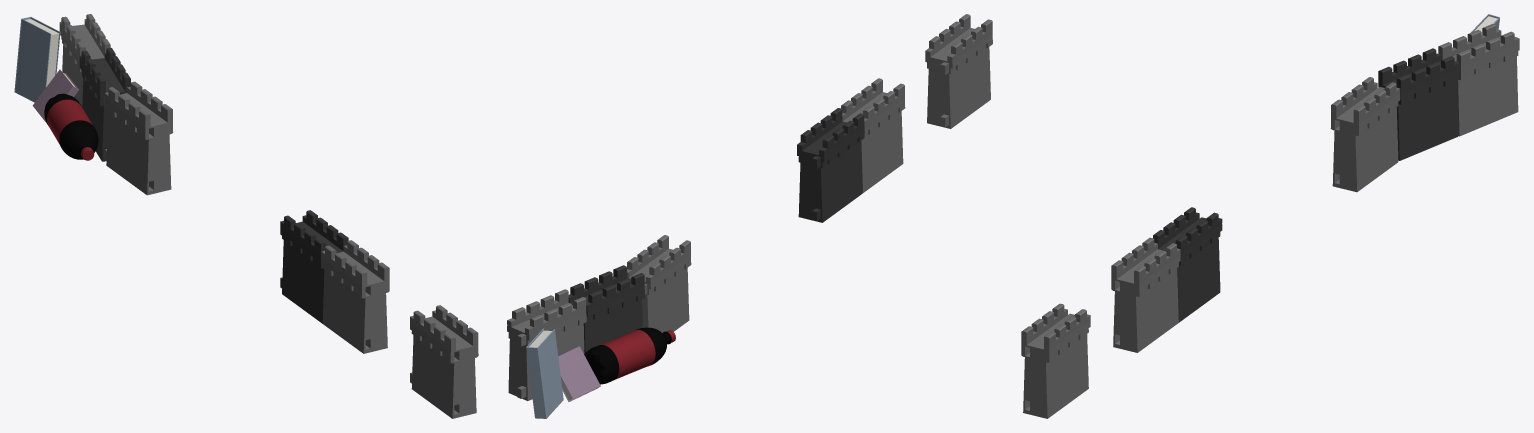
Rendered from bed_wall.fbx.
The picture shows the model from 3 angles, left to right: view 1: azimuth 30°, elevation 25°; view 2: azimuth 150°, elevation 25°; view 3: azimuth 330°, elevation 25°; orthographic projection. The views are drawn at different scales.
Visible parts, largest first — view 1: pCube365, pCube368, pCube370, pCube369, pCube371, pCube366, pCylinder35, pCube367, pCube372; view 2: pCube369, pCube368, pCube367, pCube365, pCube370, pCube366, pCylinder35, pCube371, pCube372; view 3: pCube368, pCube365, pCube370, pCube366, pCube367, pCube369.
Part boxes in pixels (box(x1,y1,x2,y2)): pCube365: box(104, 81, 173, 195); pCube368: box(410, 305, 478, 418); pCube370: box(321, 240, 389, 353); pCube369: box(280, 210, 348, 323); pCube371: box(14, 17, 60, 102); pCube366: box(79, 47, 130, 161); pCylinder35: box(44, 93, 98, 160); pCube367: box(59, 14, 110, 106); pCube372: box(32, 69, 78, 122); pCube369: box(797, 108, 864, 222); pCube368: box(925, 14, 992, 128); pCube367: box(507, 289, 586, 400); pCube365: box(627, 235, 691, 332); pCube370: box(841, 78, 905, 192); pCube366: box(568, 265, 644, 352); pCylinder35: box(584, 327, 675, 384); pCube371: box(526, 328, 563, 418); pCube372: box(558, 346, 600, 401); pCube368: box(1021, 303, 1090, 418); pCube365: box(1330, 77, 1400, 192); pCube370: box(1111, 237, 1180, 352); pCube366: box(1378, 48, 1459, 160); pCube367: box(1438, 23, 1519, 136); pCube369: box(1153, 207, 1222, 322).
Size of the model in its own units: 9.72 by 8.21 by 81.22.
